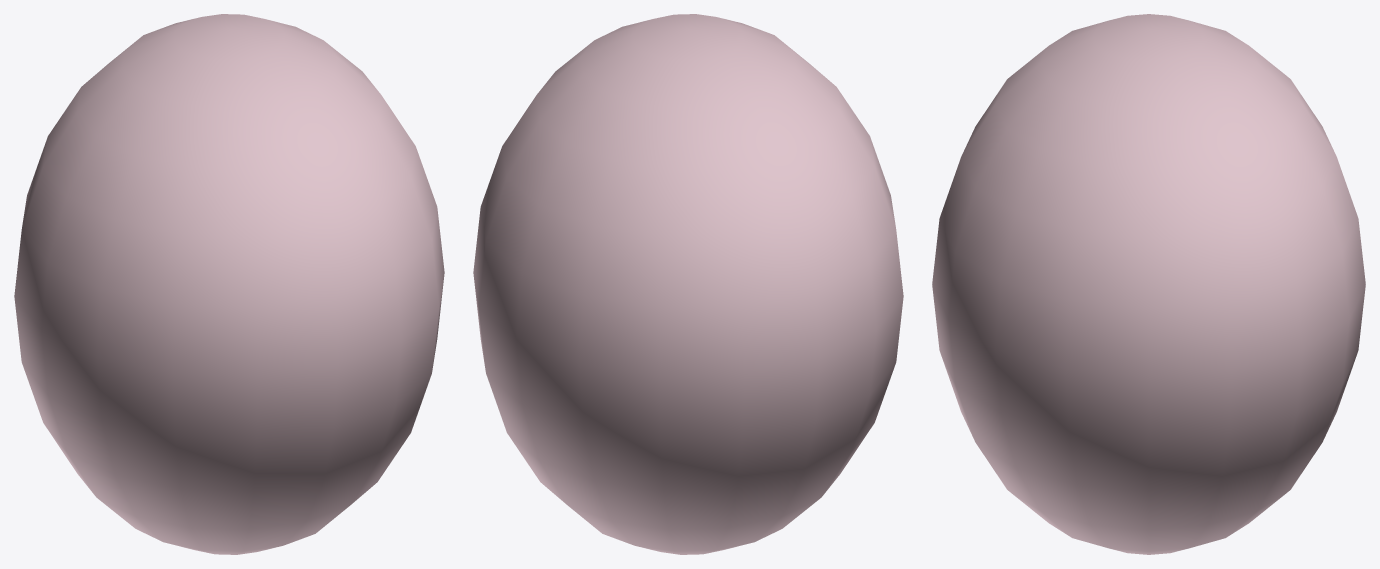
File: balloons-cluster.glb
3 renders of one model, left to right at view 1: azimuth 30°, elevation 25°; view 2: azimuth 150°, elevation 25°; view 3: azimuth 270°, elevation 25°, orthographic.
Visible parts, largest first — view 1: BalloonHeartCluster; view 2: BalloonHeartCluster; view 3: BalloonHeartCluster.
Part boxes in pixels (left/top/right/bottom): BalloonHeartCluster: left=14, top=14, right=444, bottom=554; BalloonHeartCluster: left=473, top=14, right=903, bottom=554; BalloonHeartCluster: left=932, top=14, right=1365, bottom=554.
Bounding box in the file's own units: 0.7 × 0.91 × 0.7.
